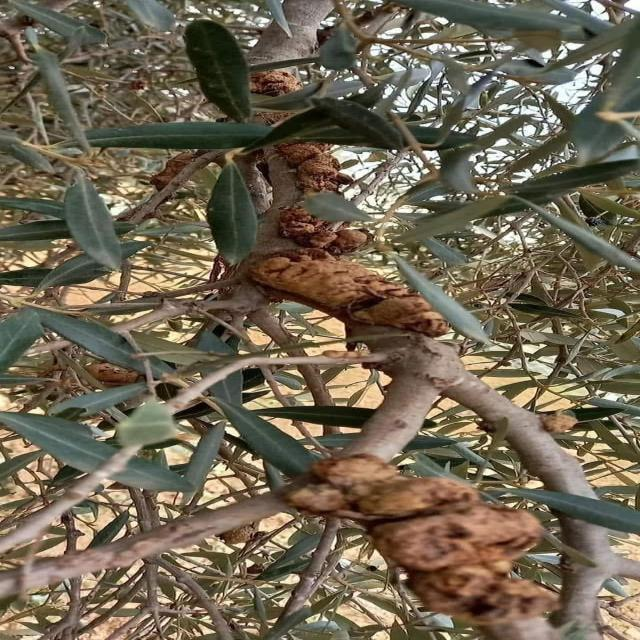Tuberculosis: (286, 455, 558, 629), (248, 248, 447, 338), (279, 205, 370, 258), (276, 143, 353, 195), (140, 150, 196, 192), (87, 362, 140, 387), (251, 70, 300, 97)
